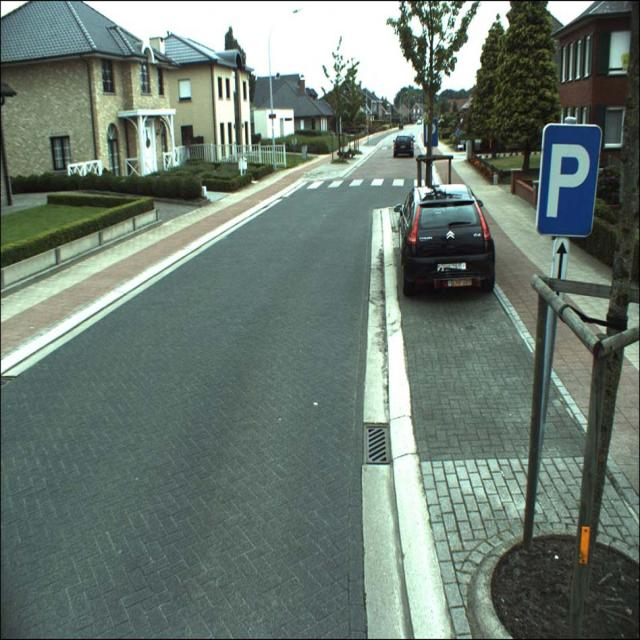park: (538, 123, 602, 240), (423, 119, 438, 149)
